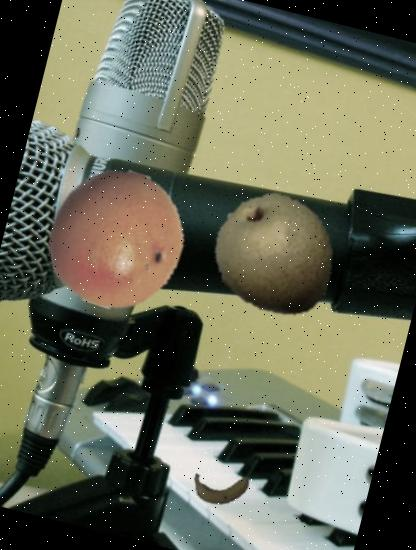Banana: (189, 453, 257, 521)
Grapefruit: (32, 156, 200, 324)
Pear: (199, 179, 354, 334)
